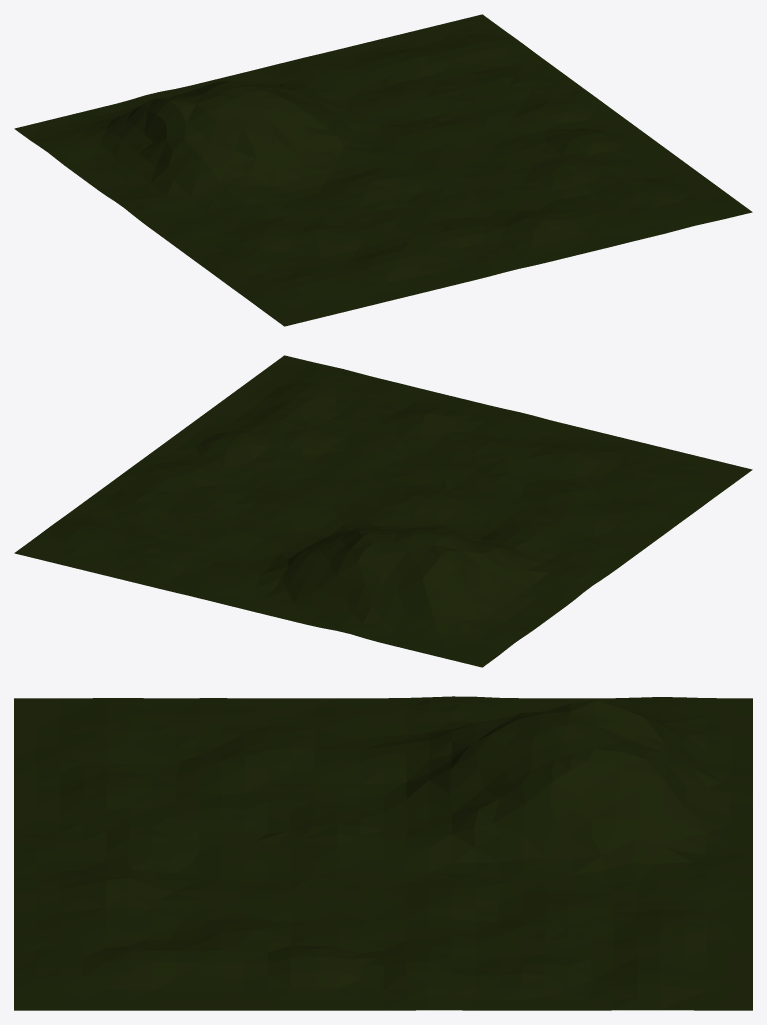
The model's file is ground2.fbx.
3 views of the same model, one above another, from view 1: azimuth 30°, elevation 25°; view 2: azimuth 150°, elevation 25°; view 3: azimuth 270°, elevation 25° (orthographic). The views are drawn at different scales.
Parts seen in each view (by area): view 1: Plane; view 2: Plane; view 3: Plane.
Boxes of the visible parts, bbox=[...] form: Plane: bbox=[14, 14, 752, 326]; Plane: bbox=[14, 355, 752, 667]; Plane: bbox=[14, 696, 752, 1010].
Bounding box in the file's own units: 2000 × 198 × 2000.
